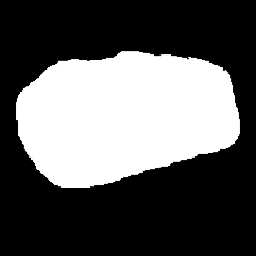mass: (19, 52, 245, 194)
